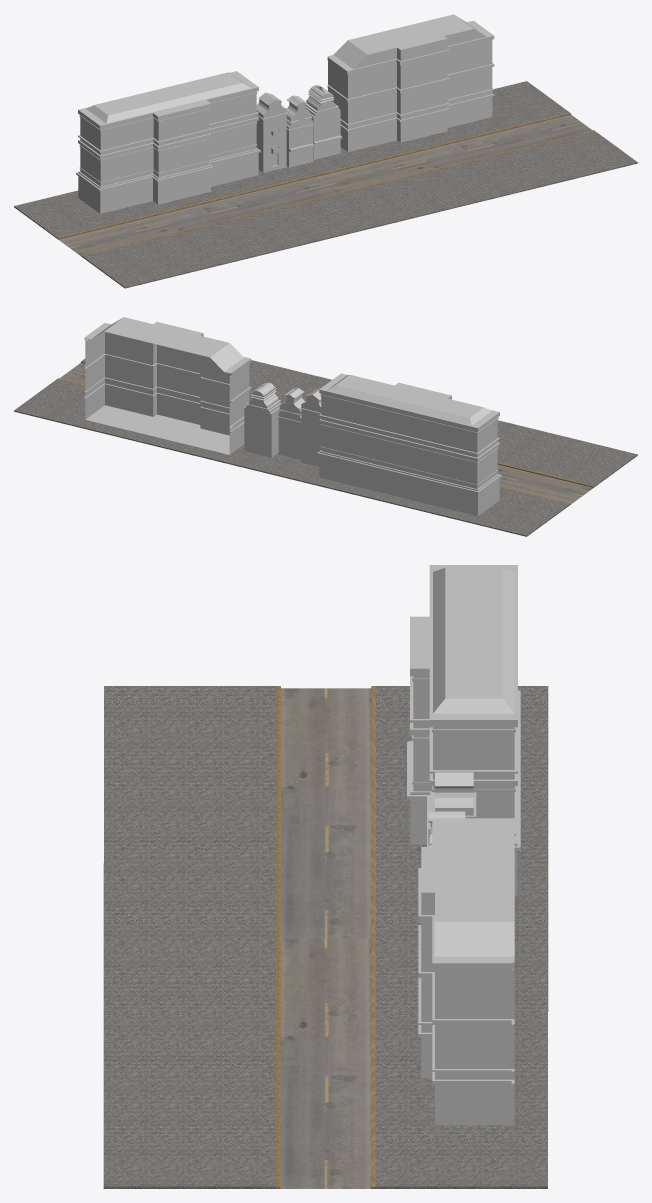
The model's file is Street.fbx.
3 views of the same model, one above another, from view 1: azimuth 30°, elevation 25°; view 2: azimuth 150°, elevation 25°; view 3: azimuth 270°, elevation 25° (orthographic). The views are drawn at different scales.
Visible parts, largest first — view 1: Plane.006, TCom_Buildings18thCentury0028_2_L, TCom_Buildings18thCentury0028_1_L, TCom_Roads0164_7_L, TCom_Buildings18thCentury0011_2_L, TCom_Buildings18thCentury0011_2_L.002, TCom_Buildings18thCentury0011_2_L.001; view 2: TCom_Buildings18thCentury0028_2_L, TCom_Buildings18thCentury0028_1_L, Plane.006, TCom_Buildings18thCentury0011_2_L.002, TCom_Roads0164_7_L, TCom_Buildings18thCentury0011_2_L.001, TCom_Buildings18thCentury0011_2_L; view 3: Plane.006, TCom_Roads0164_7_L, TCom_Buildings18thCentury0028_1_L, TCom_Buildings18thCentury0028_2_L, TCom_Buildings18thCentury0011_2_L.
Boxes of the visible parts, x1,y1,x2,y2 form: Plane.006: (14,81,637,288); TCom_Buildings18thCentury0028_2_L: (76,71,260,213); TCom_Buildings18thCentury0028_1_L: (327,14,494,151); TCom_Roads0164_7_L: (58,114,591,255); TCom_Buildings18thCentury0011_2_L: (256,92,288,172); TCom_Buildings18thCentury0011_2_L.002: (305,85,342,159); TCom_Buildings18thCentury0011_2_L.001: (286,95,314,167); TCom_Buildings18thCentury0028_2_L: (317,373,501,516); TCom_Buildings18thCentury0028_1_L: (84,317,251,454); Plane.006: (14,358,637,536); TCom_Buildings18thCentury0011_2_L.002: (244,382,281,457); TCom_Roads0164_7_L: (60,363,592,504); TCom_Buildings18thCentury0011_2_L.001: (277,388,304,459); TCom_Buildings18thCentury0011_2_L: (299,388,321,466); Plane.006: (103,686,548,1188); TCom_Roads0164_7_L: (280,688,371,1188); TCom_Buildings18thCentury0028_1_L: (418,818,514,1125); TCom_Buildings18thCentury0028_2_L: (407,565,520,895); TCom_Buildings18thCentury0011_2_L: (428,772,476,843).
Bounding box in the file's own units: 7331 × 1282 × 2754.
